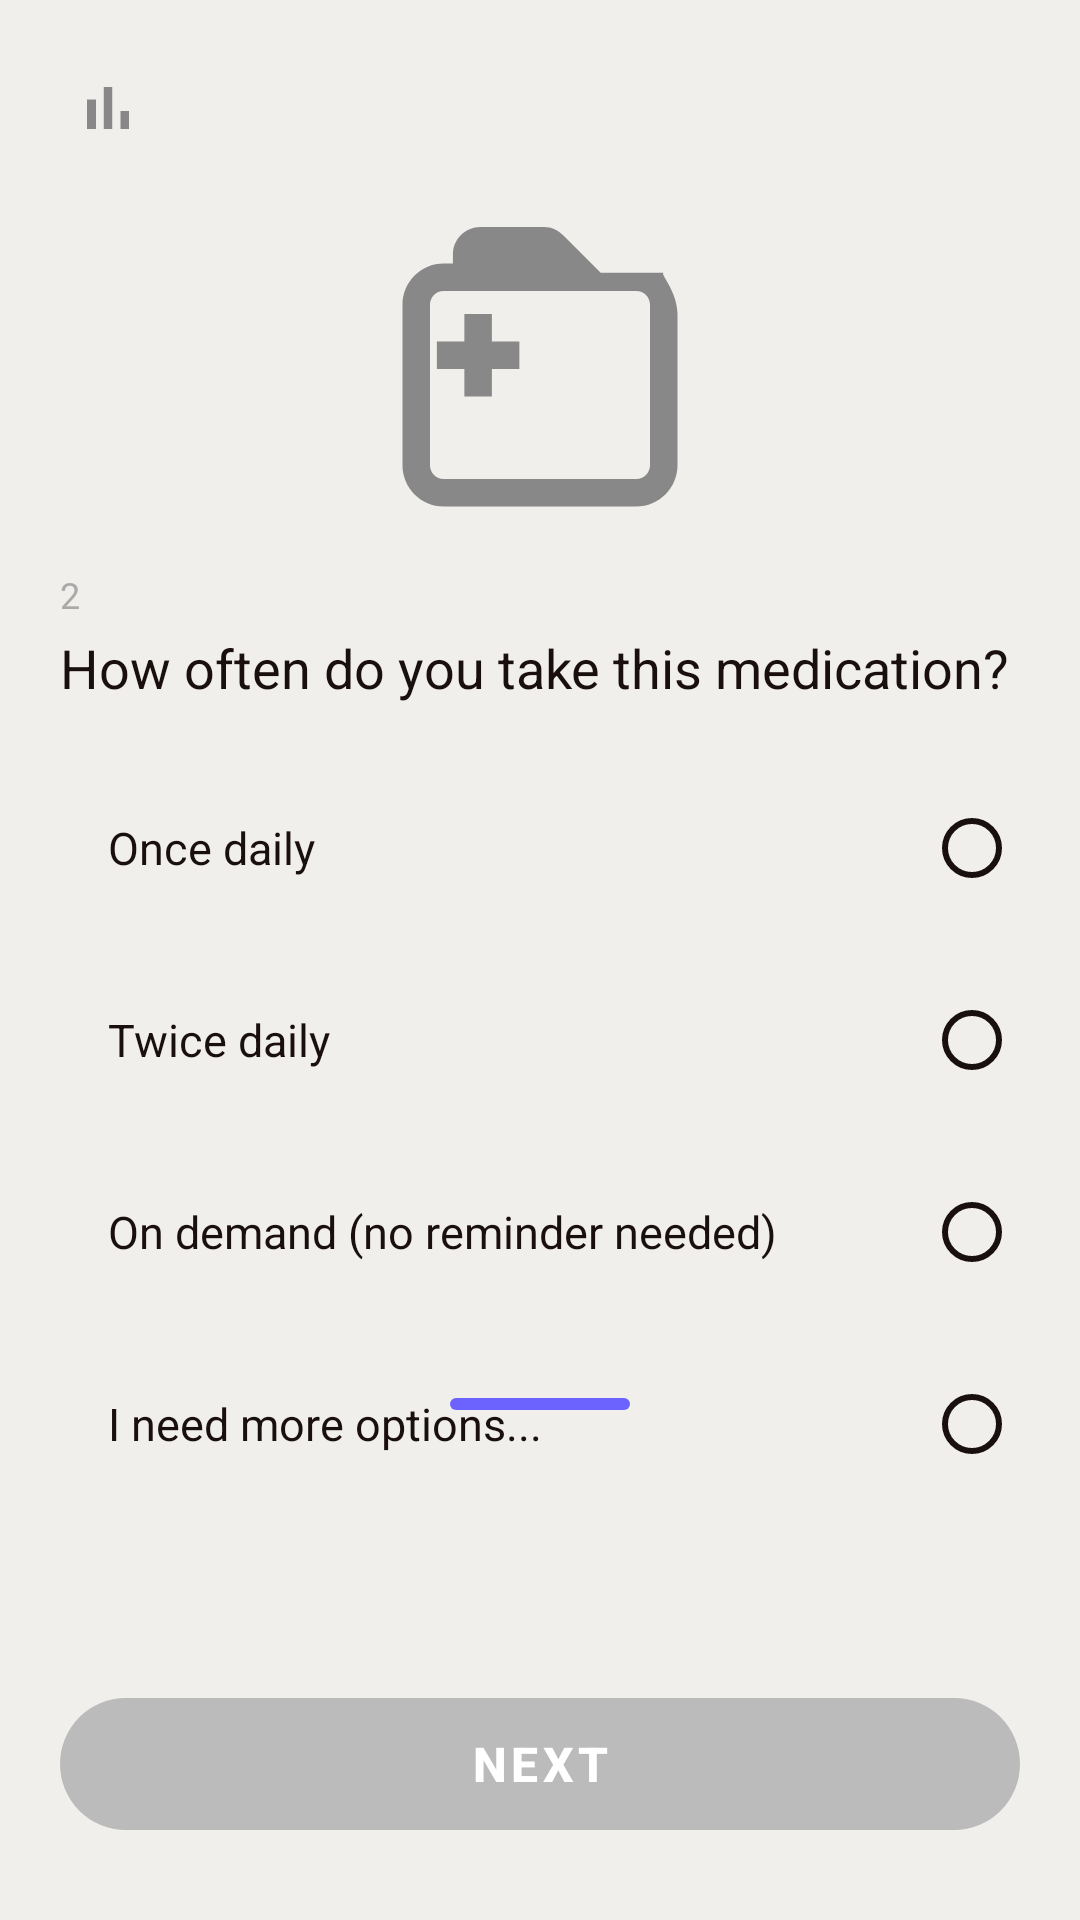

Icons on this 1080 × 1920 Android screen, each with its box as (x1, y1, x2, y2):
medicine: (402, 227, 678, 507)
progress: (87, 87, 129, 129)
